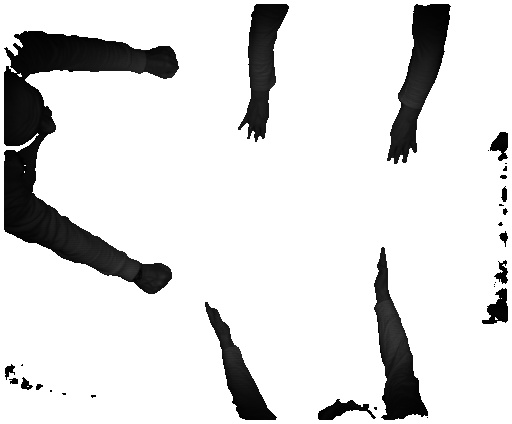fist: (139, 256, 175, 295), (147, 41, 183, 79)
hand: (384, 118, 423, 167), (232, 99, 271, 143)
spine: (200, 296, 239, 339), (368, 240, 391, 295)
